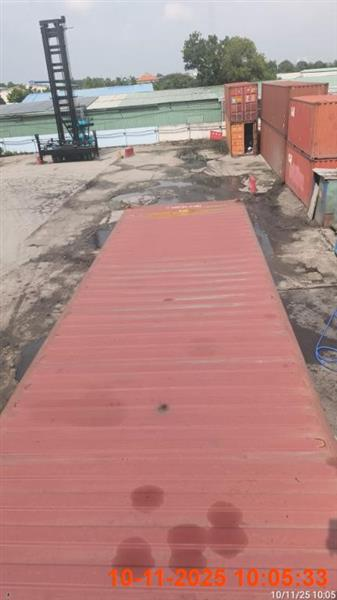hole: (0, 198, 335, 598)
